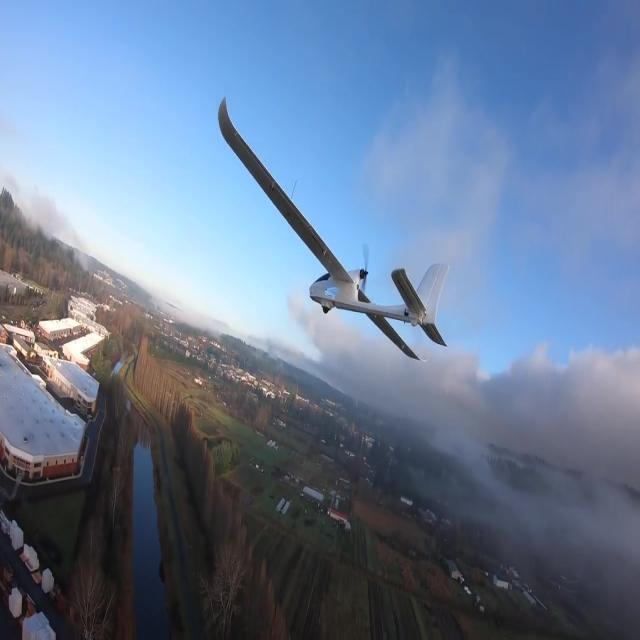iha: (216, 93, 450, 364)
